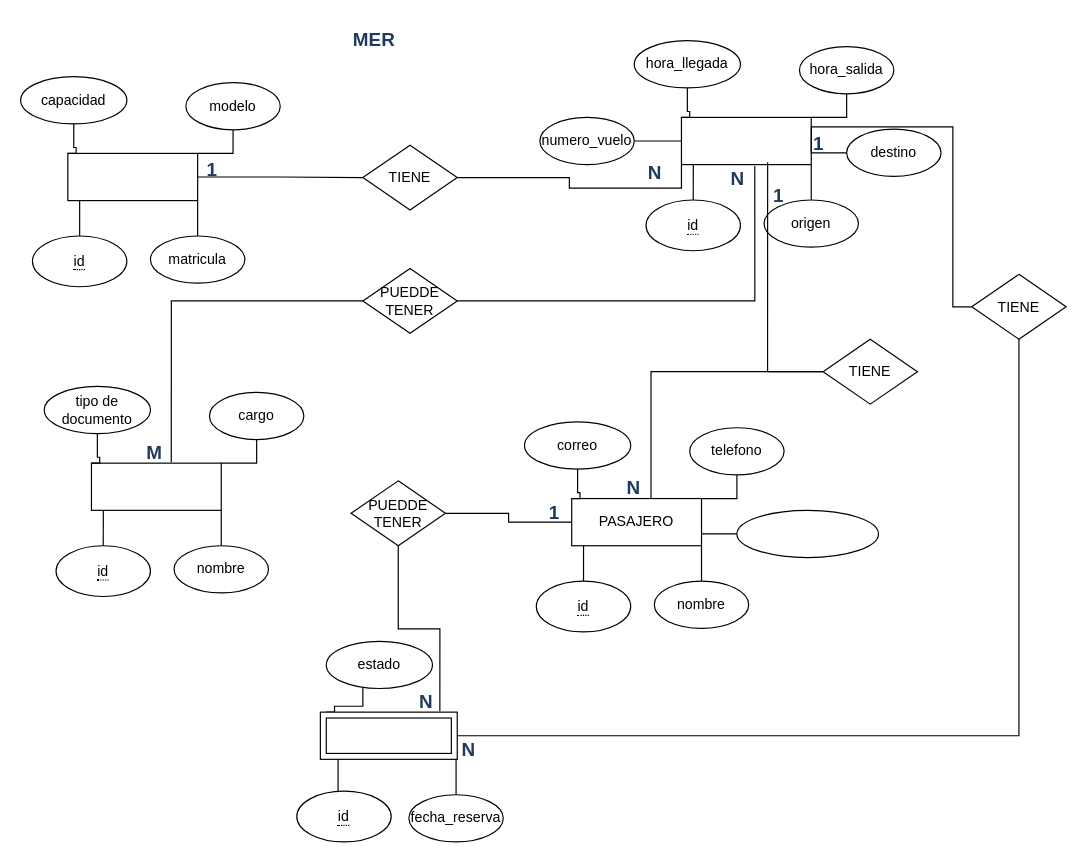
The diagram is 1087 pixels wide and 863 high, and some of its shapes have lost their labels. Each missing label, with the centre of its shape:
"AERONAVE" belongs at (132,176).
"documeto_identidad" belongs at (807,533).
"RESERVA" belongs at (388,735).
"TRIPULANTE" belongs at (155,486).
"VUELO" belongs at (745,140).
